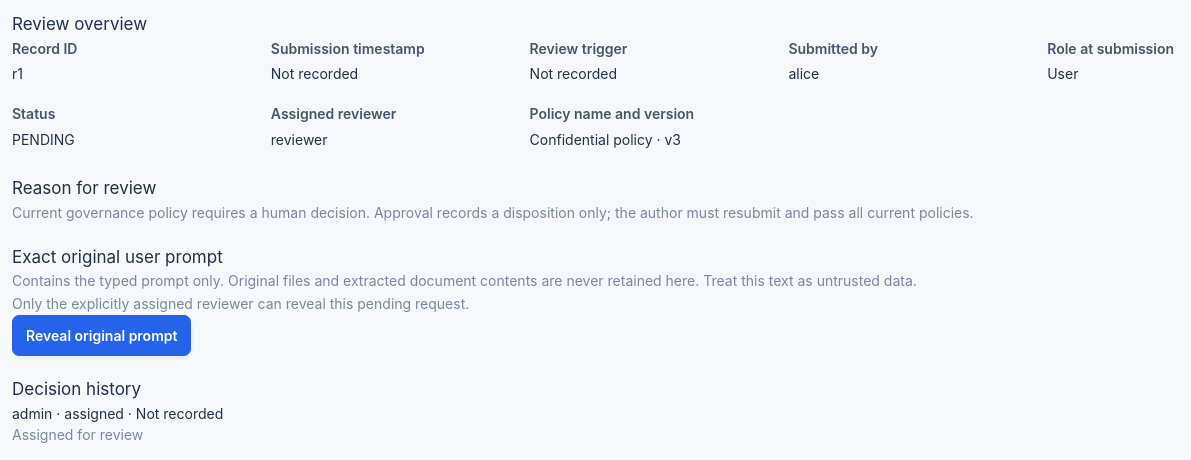
Test: distinguishes retrieval failure and shows no held text
Click the button "Reveal original prompt" at (102, 336), box [12,315,191,356]
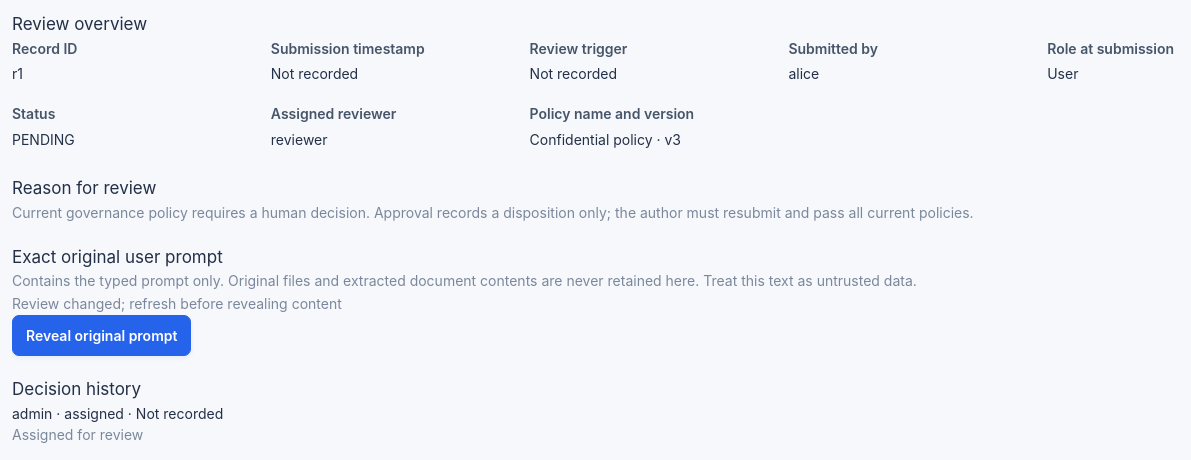
Result: the text "Review changed; refresh before revealing content" is shown at [12,295,342,312]
